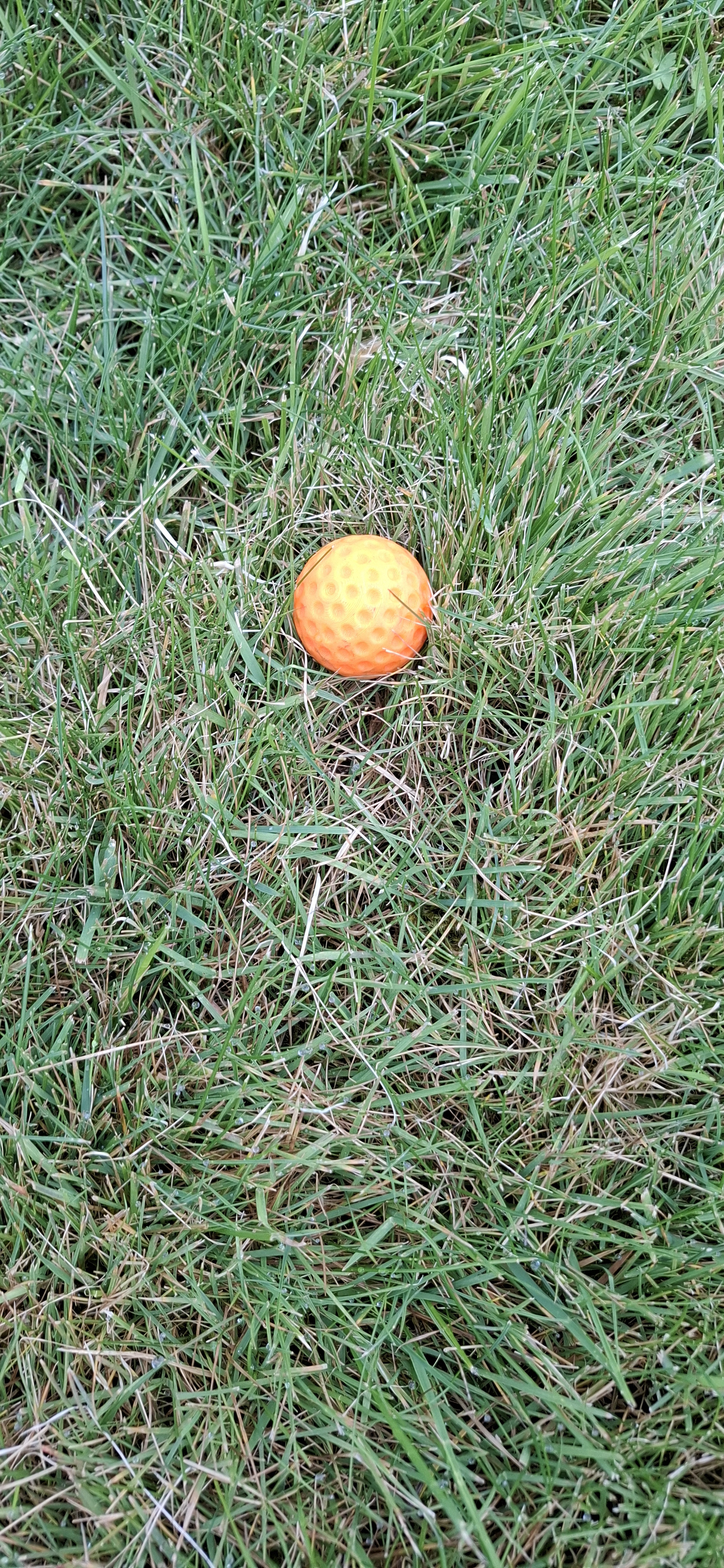ball: (246, 629, 314, 934)
